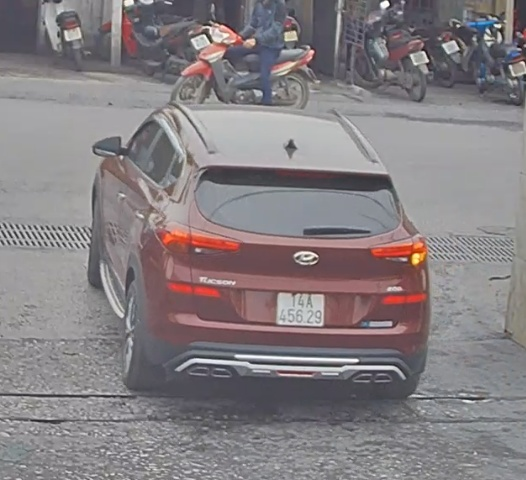vehicle plate: (276, 288, 328, 331)
